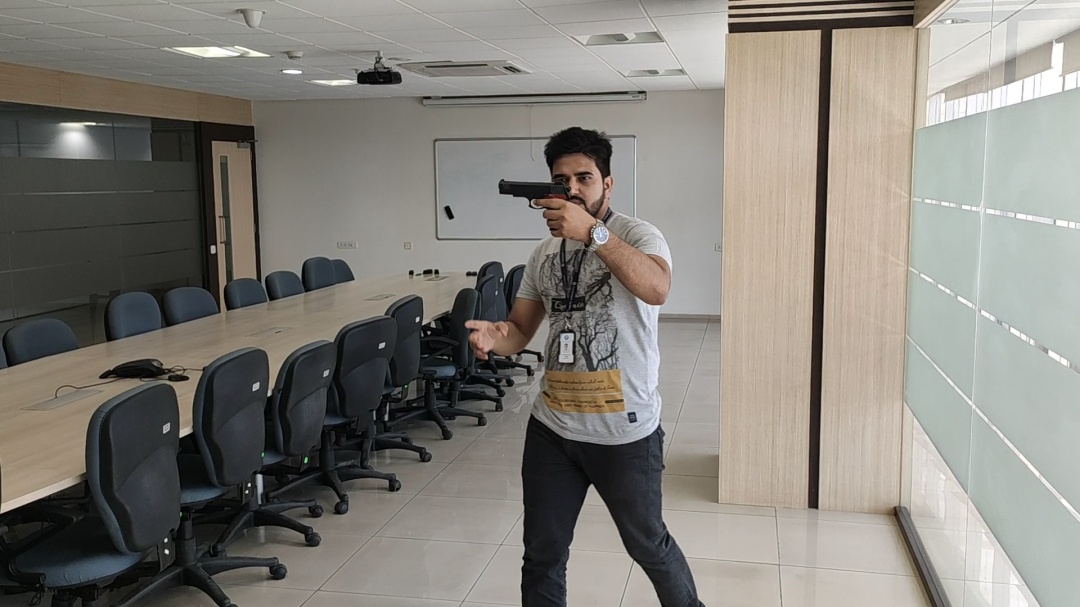gun: (498, 178, 572, 210)
